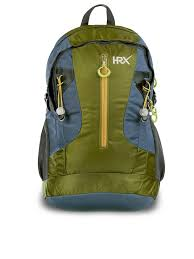backpack: (37, 3, 165, 209)
